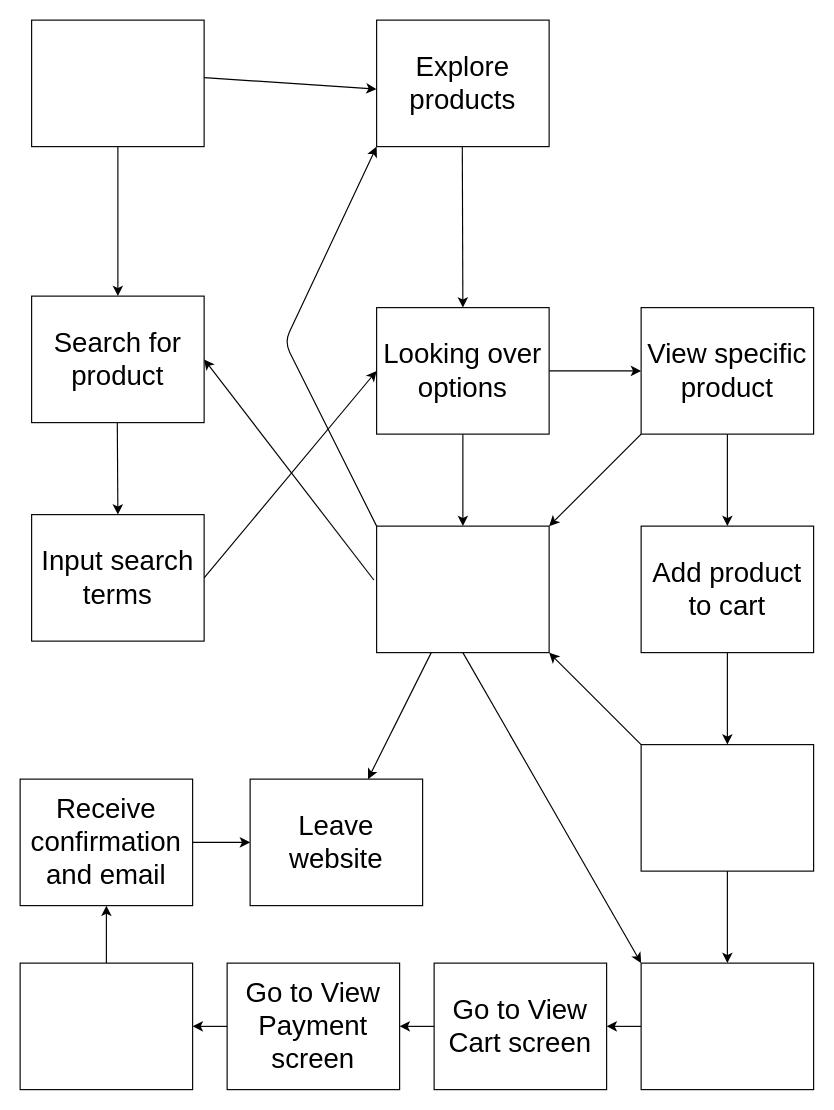
Image size: 834x1110. Some labels were removed from this diagram. Here are the shapes that lost their labels. From the top down, the centre of each, then its label:
pixel 117 83: User Enters Website
pixel 462 589: Continue shopping
pixel 727 807: Receive cart confirmation
pixel 106 1026: Input payment info
pixel 727 1026: Checkout
